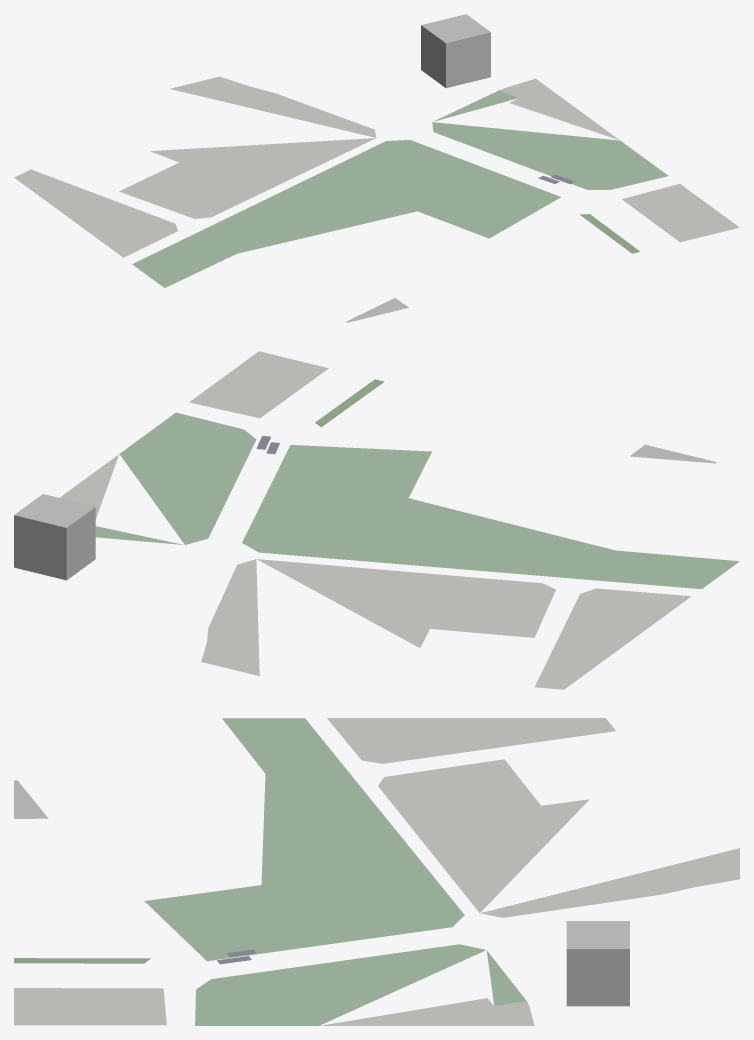
File: 101_105_mid.glb
The picture shows the model from 3 angles, top to bottom: view 1: azimuth 30°, elevation 25°; view 2: azimuth 150°, elevation 25°; view 3: azimuth 270°, elevation 25°; orthographic projection. The views are drawn at different scales.
Bounding box in the file's own units: 500 × 43.5 × 500.
